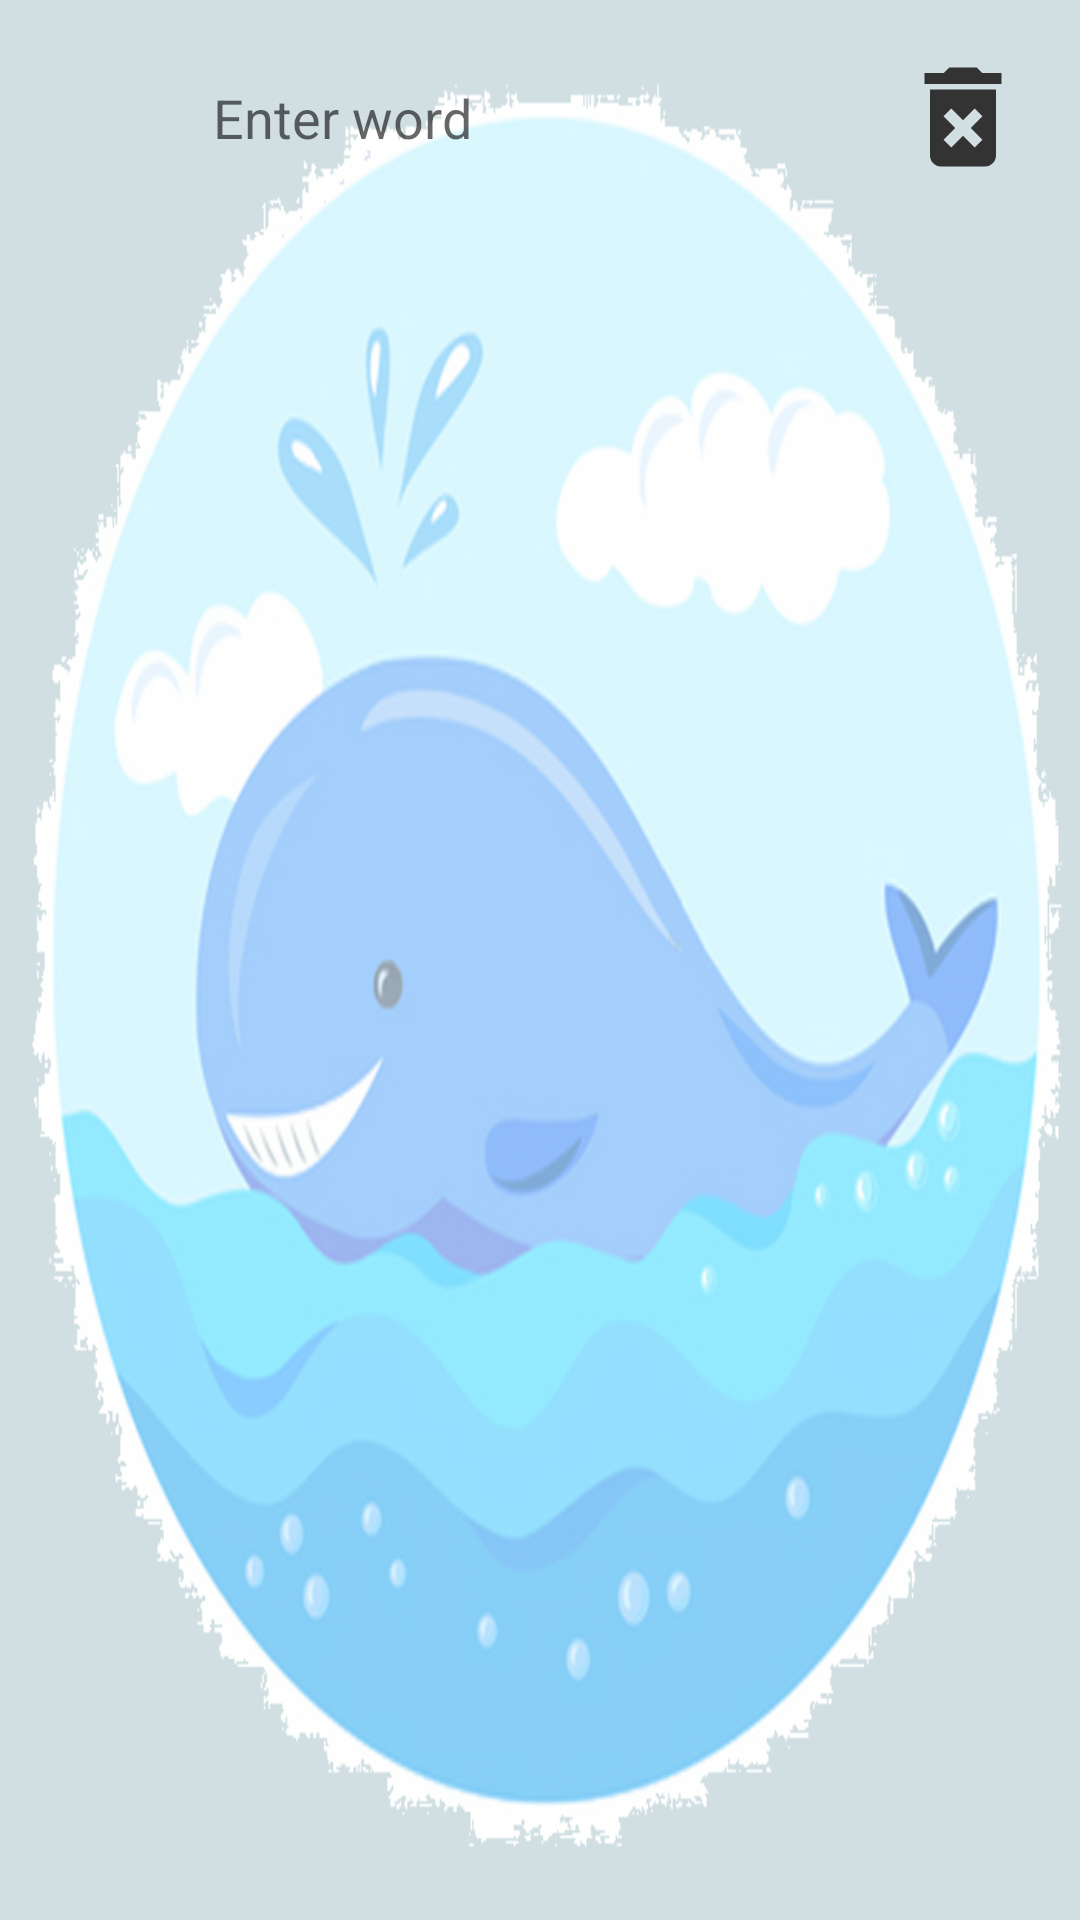

Icons on this 1080×1920 Android screen, each with its box as [x1,y1,x2,y2]:
Delete: [924,67,1002,167]
